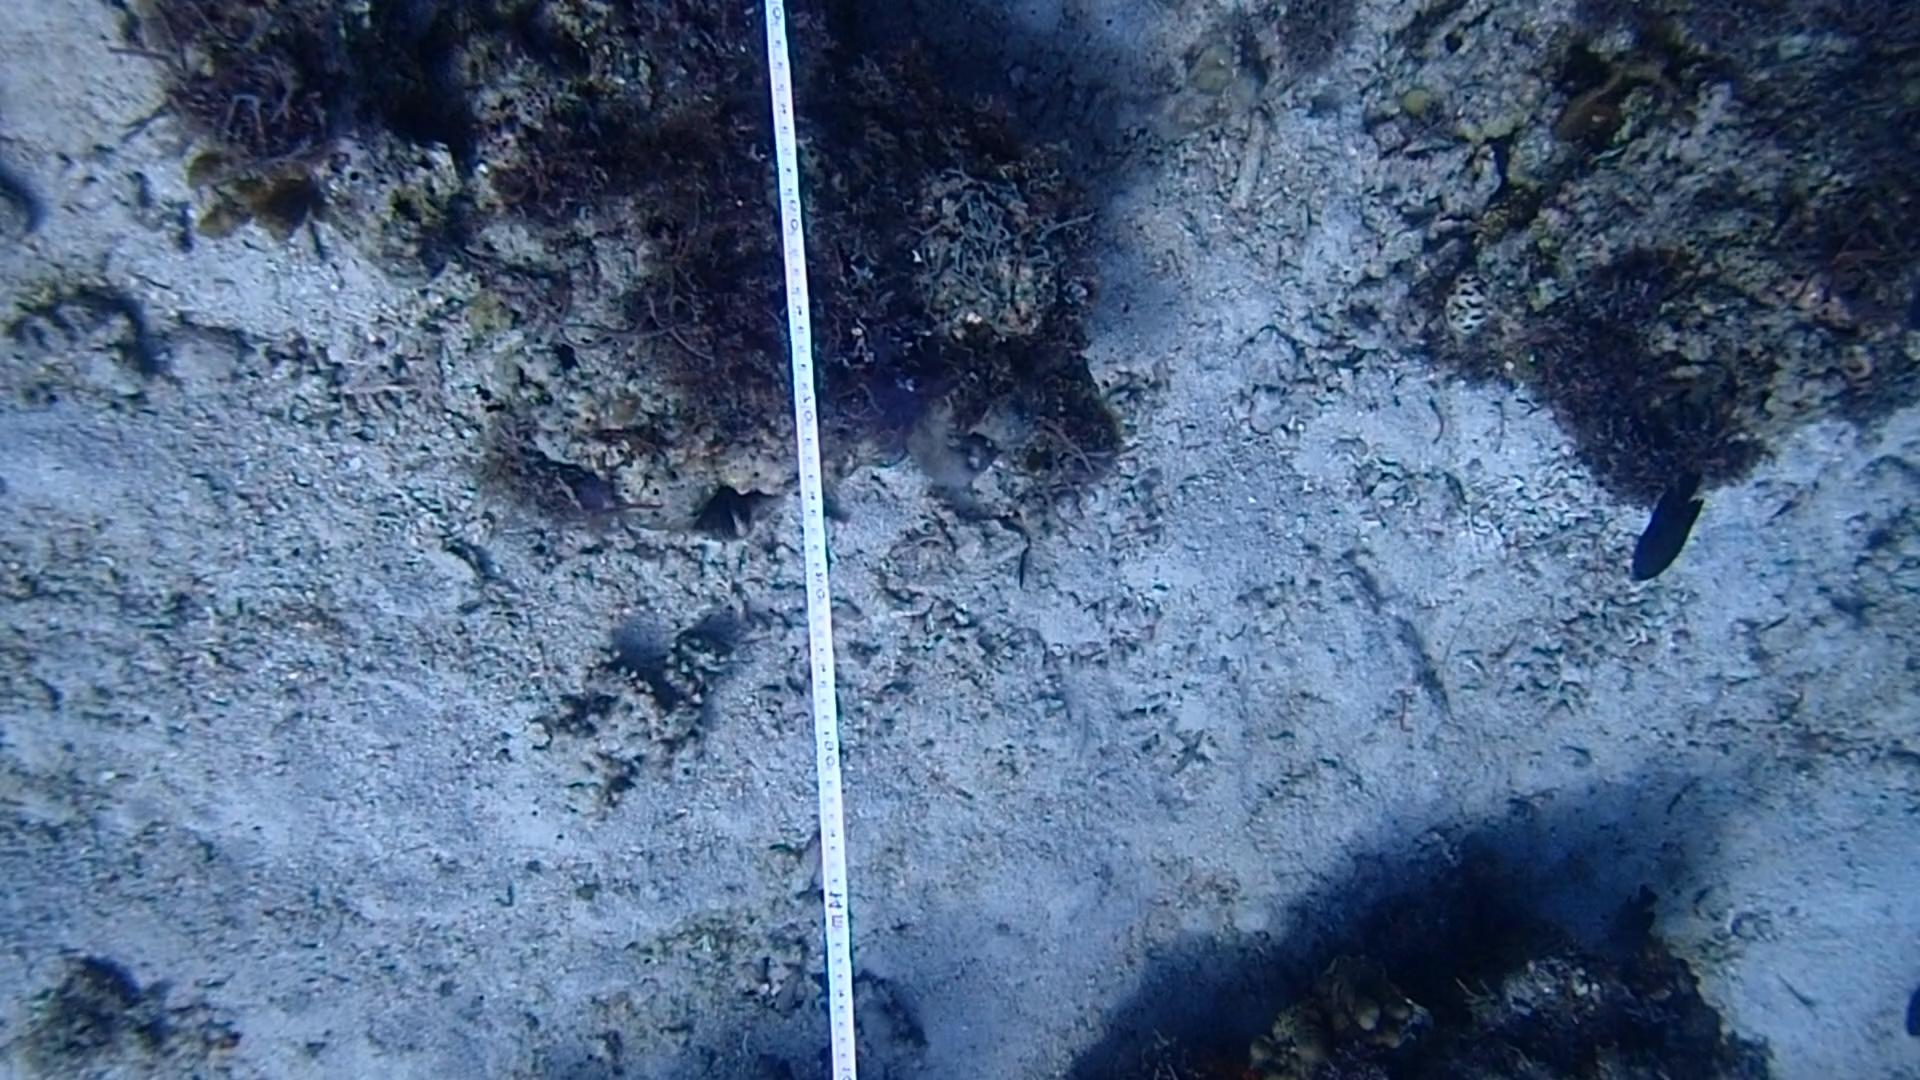Dark Fish: (1621, 465, 1712, 599), (1605, 881, 1663, 960)
